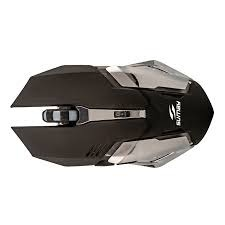mouse: (9, 61, 215, 170)
